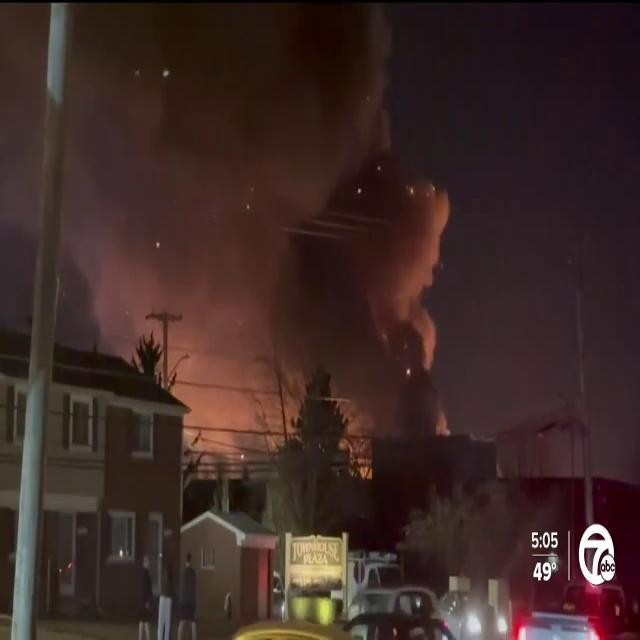Smoke: (17, 1, 454, 448)
